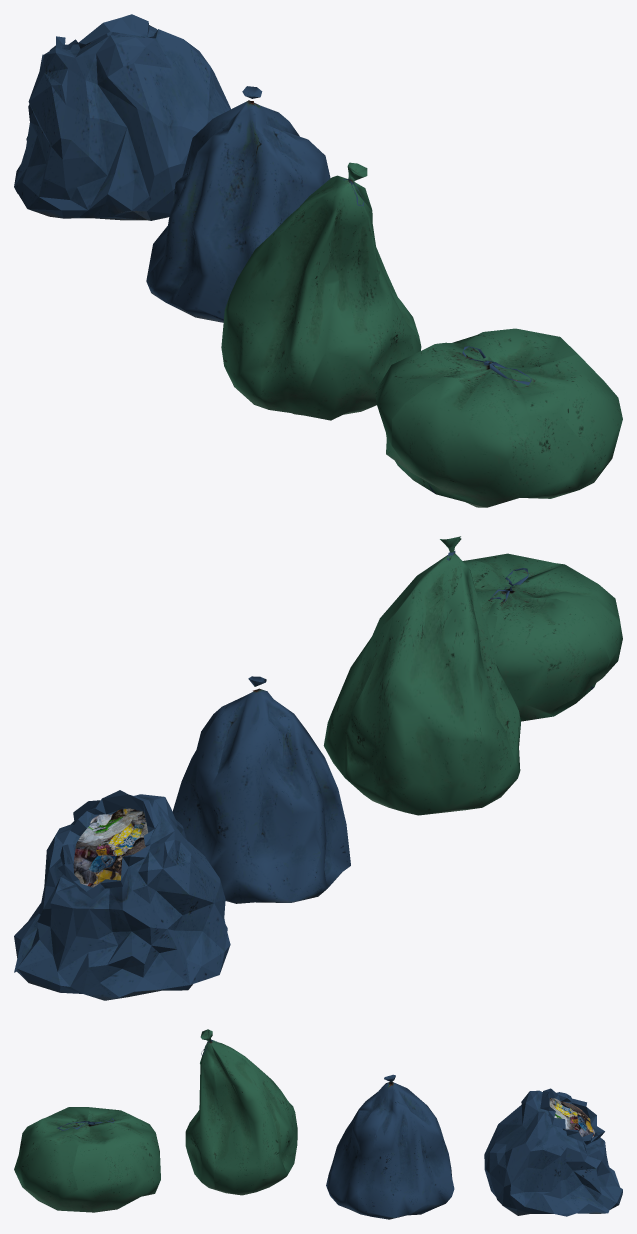
Rendered from trash.fbx.
3 views of the same model, one above another, from view 1: azimuth 30°, elevation 25°; view 2: azimuth 150°, elevation 25°; view 3: azimuth 270°, elevation 25° (orthographic). The views are drawn at different scales.
Visible parts, largest first — view 1: bags2 (×2), bags3, bag4_001_bags2_0; view 2: bags2 (×2), bags3, bag4_001_bags2_0; view 3: bags2 (×2), bag4_001_bags2_0, bags3.
Boxes of the visible parts, x1,y1,x2,y2 form: bags2 (×2): (146, 86, 622, 507); bags3: (221, 162, 421, 420); bag4_001_bags2_0: (14, 14, 230, 220); bags2 (×2): (172, 553, 622, 903); bags3: (323, 536, 520, 815); bag4_001_bags2_0: (14, 790, 230, 1000); bags2 (×2): (14, 1074, 454, 1219); bag4_001_bags2_0: (484, 1088, 622, 1216); bags3: (185, 1029, 297, 1195).
Size of the model in its own units: 53 by 51.83 by 192.
1 material, 1 textured.
